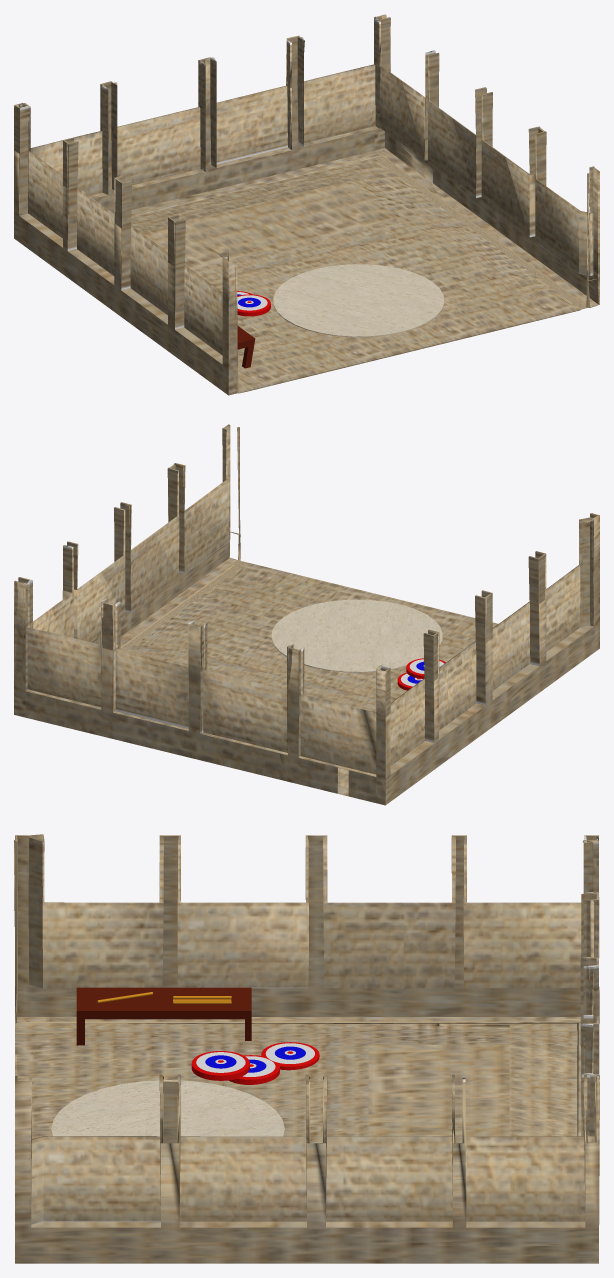
Rendered from Sumerian_army_building_onConstruction.fbx.
3 renders of one model, top to bottom at view 1: azimuth 30°, elevation 25°; view 2: azimuth 150°, elevation 25°; view 3: azimuth 270°, elevation 25°, orthographic. The views are drawn at different scales.
Parts seen in each view (by area): view 1: Cube, Cylinder.002; view 2: Cube; view 3: Cube, Cube.006, Cylinder.002, Cylinder.006, Cylinder.001.
Part boxes in pixels (left/top/right/bottom): Cube: left=14, top=14, right=599, bottom=395; Cylinder.002: left=237, top=294, right=270, bottom=316; Cube: left=14, top=424, right=599, bottom=805; Cube: left=14, top=834, right=599, bottom=1263; Cube.006: left=76, top=987, right=251, bottom=1045; Cylinder.002: left=191, top=1051, right=249, bottom=1080; Cylinder.006: left=261, top=1042, right=319, bottom=1070; Cylinder.001: left=228, top=1055, right=279, bottom=1084.
Bounding box in the file's own units: 1000 × 353 × 1003.
Materials: 9 (1 with a texture image).
